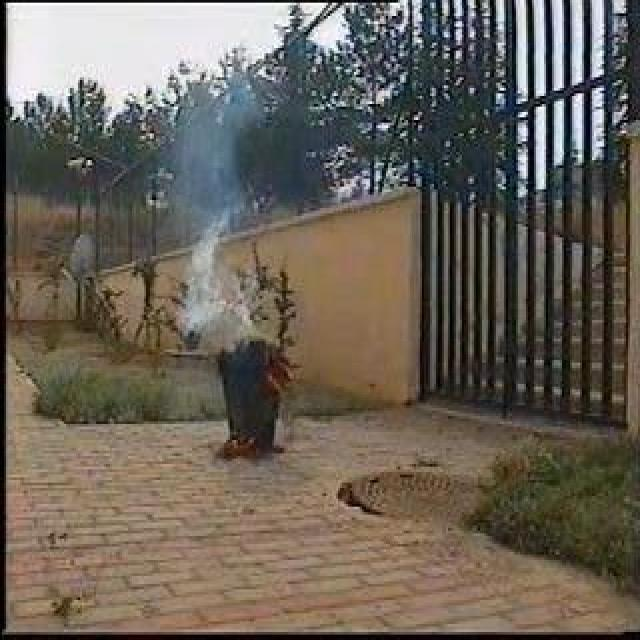smoke: (160, 71, 258, 340)
